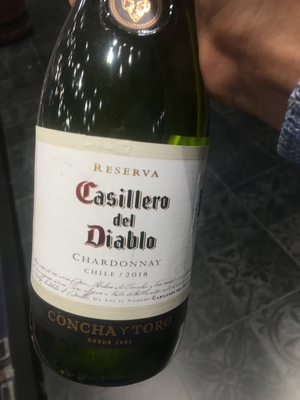casillero del diablo chardonnay: (28, 13, 210, 388)
